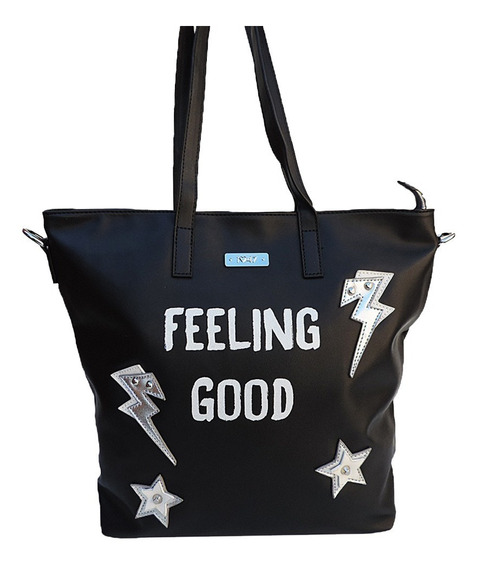cartera: (20, 201, 442, 541)
